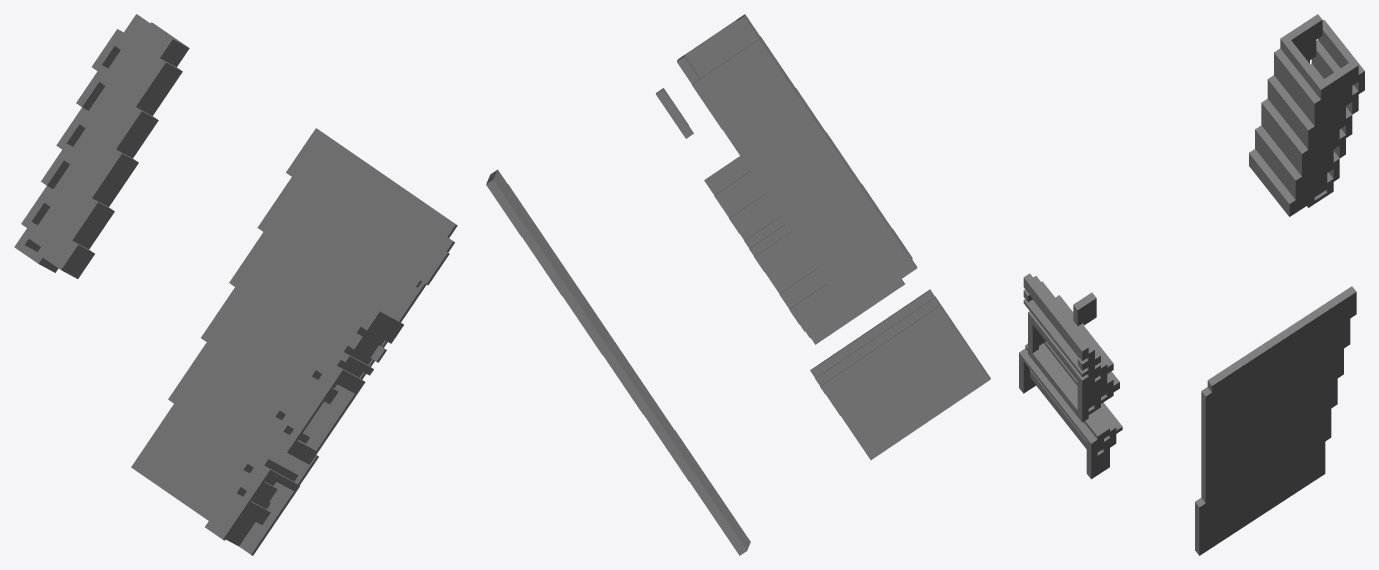
File: tile_2_4.glb
3 views of the same model, side by side, from view 1: azimuth 30°, elevation 25°; view 2: azimuth 150°, elevation 25°; view 3: azimuth 270°, elevation 25° (orthographic). The views are drawn at different scales.
Visible parts, largest first — view 1: universal_minecraft:concrete:up, universal_minecraft:stained_terracotta:up, universal_minecraft:concrete:north, universal_minecraft:stone_bricks:north, universal_minecraft:stone_bricks:up, universal_minecraft:terracotta:up, universal_minecraft:grass_block:up; view 2: universal_minecraft:concrete:south, universal_minecraft:stone_bricks:south, universal_minecraft:concrete:up, universal_minecraft:stained_terracotta:up; view 3: universal_minecraft:concrete:down, universal_minecraft:concrete:west, universal_minecraft:concrete:north, universal_minecraft:grass_block:down, universal_minecraft:stone_bricks:west, universal_minecraft:stone_bricks:north, universal_minecraft:stone_bricks:down, universal_minecraft:stained_terracotta:down, universal_minecraft:terracotta:down.
Boxes of the visible parts, left/top/right/bottom form: universal_minecraft:concrete:up: left=14, top=29, right=455, bottom=520; universal_minecraft:stained_terracotta:up: left=29, top=14, right=436, bottom=273; universal_minecraft:concrete:north: left=25, top=39, right=457, bottom=485; universal_minecraft:stone_bricks:north: left=226, top=360, right=365, bottom=546; universal_minecraft:stone_bricks:up: left=205, top=351, right=342, bottom=531; universal_minecraft:terracotta:up: left=211, top=364, right=333, bottom=539; universal_minecraft:grass_block:up: left=150, top=22, right=384, bottom=554; universal_minecraft:concrete:south: left=486, top=20, right=916, bottom=555; universal_minecraft:stone_bricks:south: left=744, top=216, right=990, bottom=459; universal_minecraft:concrete:up: left=493, top=14, right=917, bottom=550; universal_minecraft:stained_terracotta:up: left=668, top=15, right=907, bottom=253; universal_minecraft:concrete:down: left=1028, top=71, right=1364, bottom=555; universal_minecraft:concrete:west: left=1023, top=20, right=1364, bottom=507; universal_minecraft:concrete:north: left=1023, top=30, right=1358, bottom=555; universal_minecraft:grass_block:down: left=1082, top=65, right=1358, bottom=478; universal_minecraft:stone_bricks:west: left=1019, top=295, right=1122, bottom=455; universal_minecraft:stone_bricks:north: left=1019, top=312, right=1109, bottom=451; universal_minecraft:stone_bricks:down: left=1082, top=363, right=1122, bottom=470; universal_minecraft:stained_terracotta:down: left=1084, top=20, right=1322, bottom=318; universal_minecraft:terracotta:down: left=1023, top=325, right=1045, bottom=393.
Bounding box in the file's own units: 60.58 × 73.12 × 44.69.
28 materials, 28 textured.
